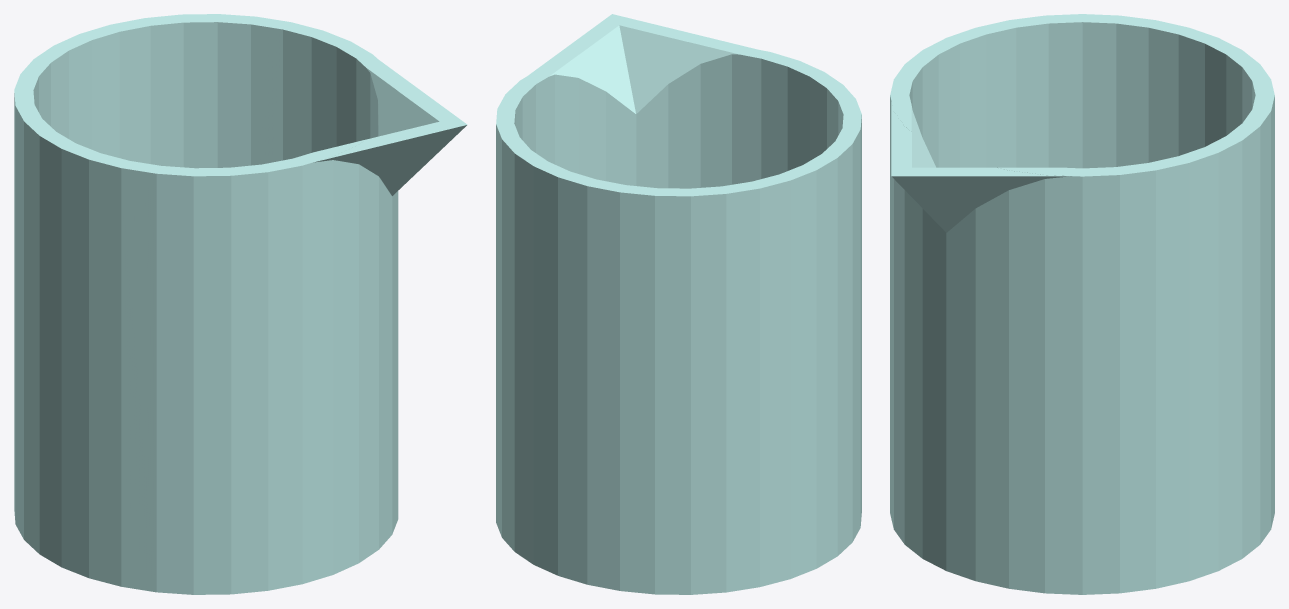
The model's file is Bekerglaasje2.glb.
The picture shows the model from 3 angles, left to right: view 1: azimuth 30°, elevation 25°; view 2: azimuth 150°, elevation 25°; view 3: azimuth 270°, elevation 25°; orthographic projection. The views are drawn at different scales.
Parts seen in each view (by area): view 1: Cylinder; view 2: Cylinder; view 3: Cylinder.
Boxes of the visible parts, box(x1,y1,x2,y2) form: Cylinder: box(14, 14, 467, 594); Cylinder: box(496, 14, 861, 594); Cylinder: box(890, 14, 1274, 594).
Bounding box in the file's own units: 2 × 2.4 × 2.
